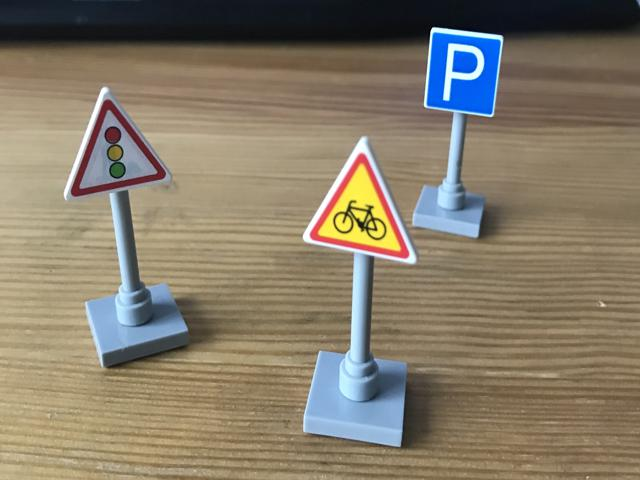lichtzeichenanlage: (64, 84, 172, 200)
parken: (423, 25, 505, 117)
radfahrer: (301, 134, 418, 264)
